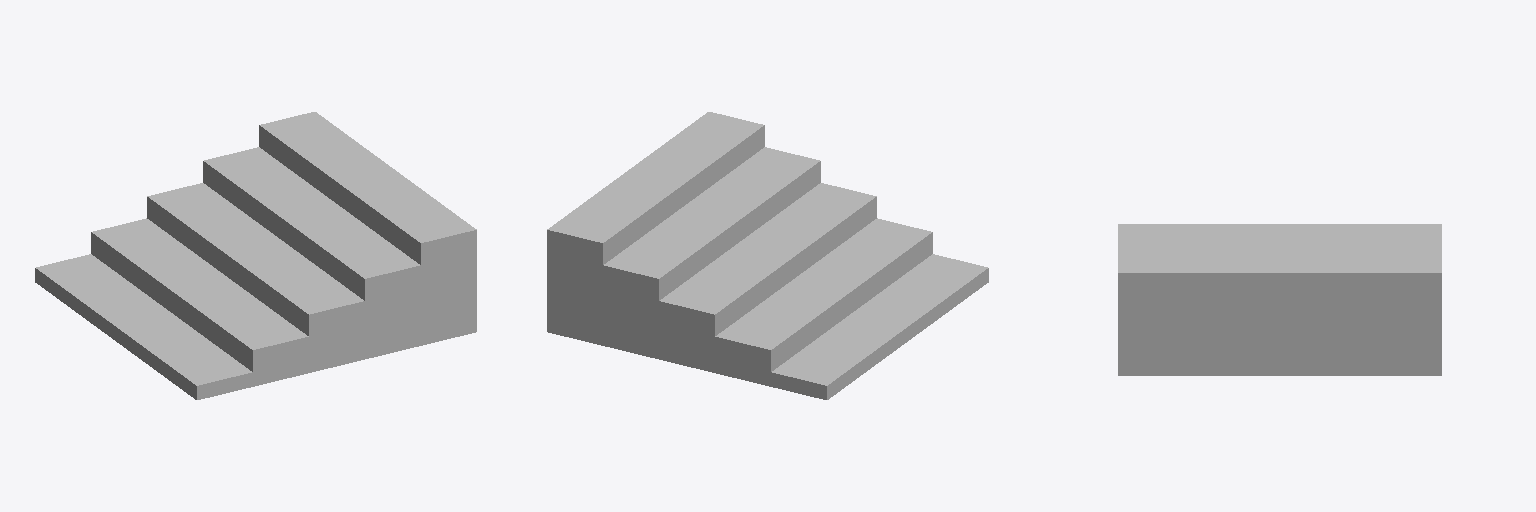
Rendered from blender_stairs2_blue_scale.obj.
3 renders of one model, left to right at view 1: azimuth 30°, elevation 25°; view 2: azimuth 150°, elevation 25°; view 3: azimuth 270°, elevation 25°, orthographic.
Visible parts, largest first — view 1: Cube; view 2: Cube; view 3: Cube.
Part boxes in pixels (x1,y1,x2,y2): Cube: (35, 112, 476, 399); Cube: (547, 112, 988, 399); Cube: (1118, 224, 1441, 375).
Bounding box in the file's own units: 200 × 70 × 200.